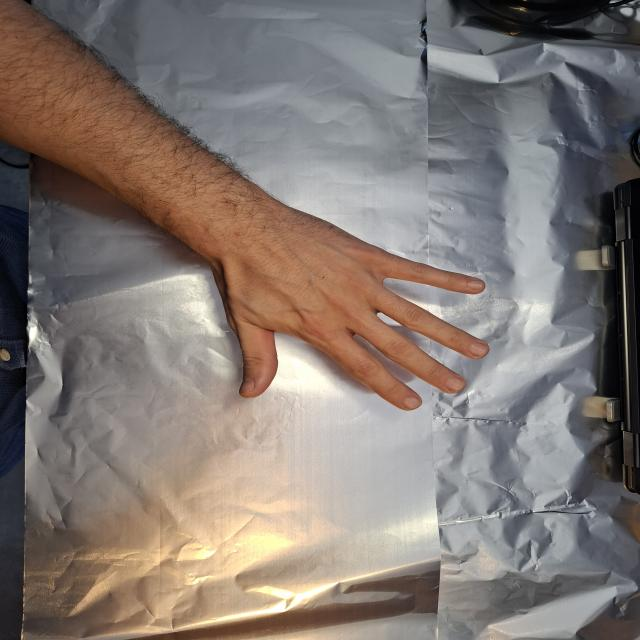glove_off: (164, 179, 493, 413)
